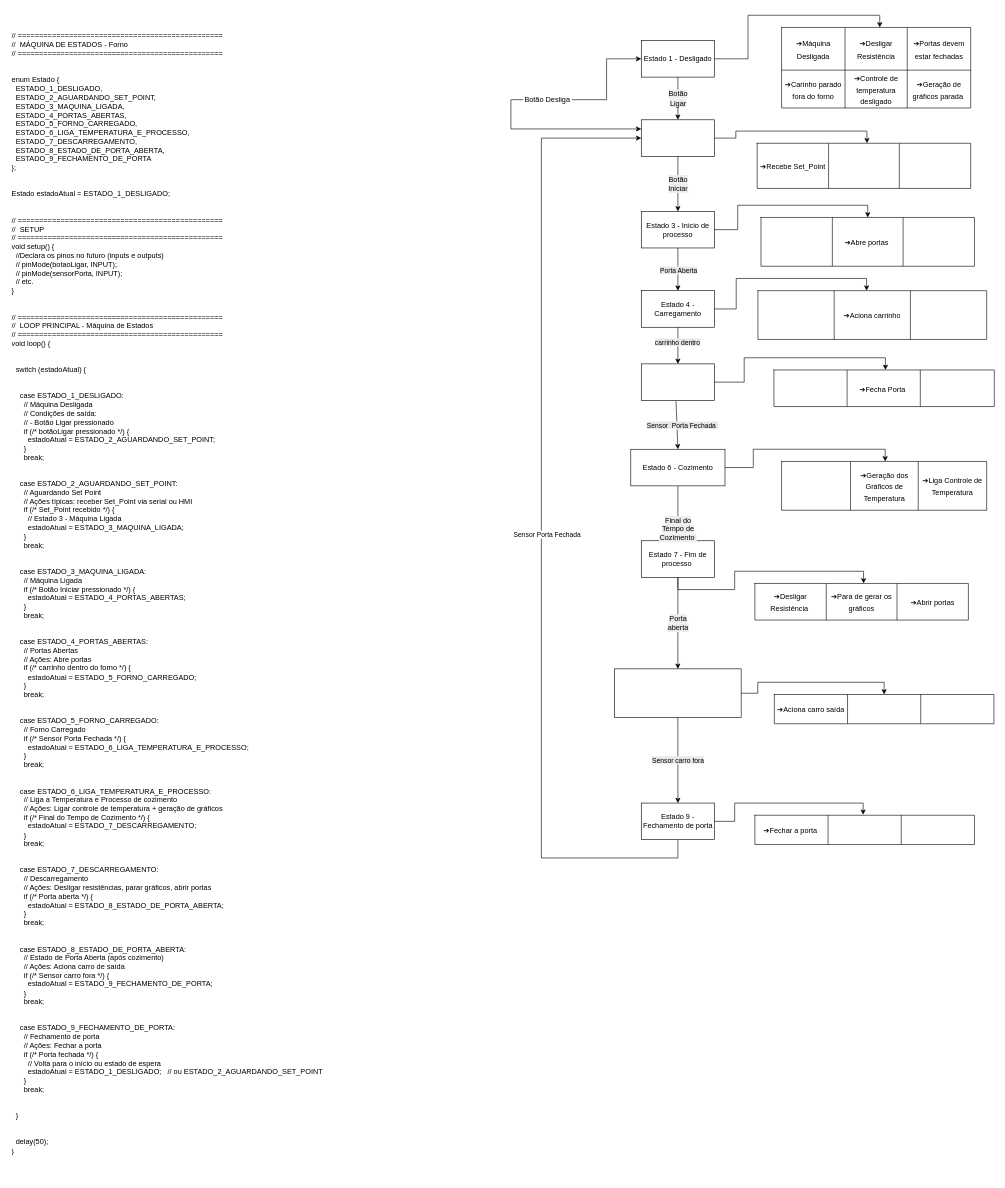
The diagram is 1005 pixels wide and 1188 high, and some of its shapes have lost their labels. The centre of each missing label's shape, as x and y in pixels:
Estado 2 - Aguardando Set_Point: pixel 677 137
Estado 5 - Forno Carregado: pixel 677 381
Estado 8 - Descarregamento: pixel 677 693
